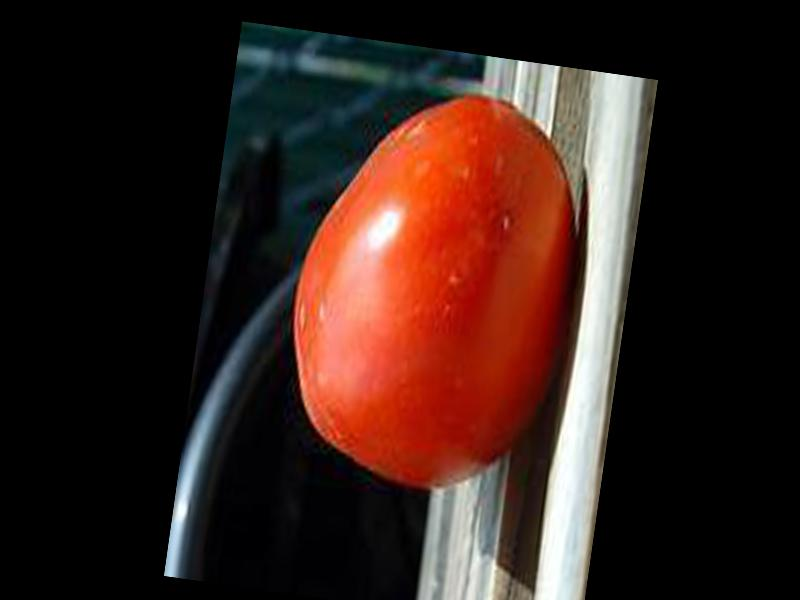Tomato: (272, 72, 593, 501)
